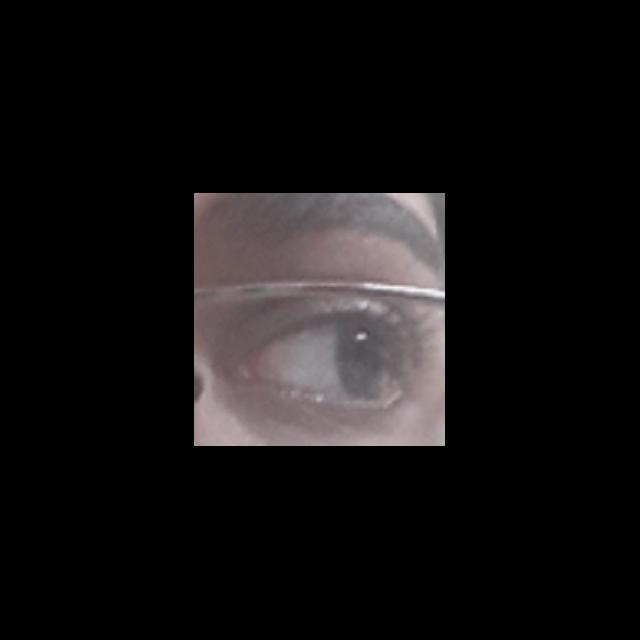eye: (248, 318, 401, 401)
iris: (334, 324, 396, 399)
